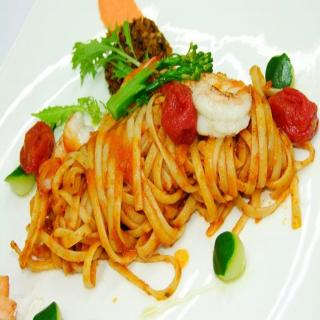Pasta: (9, 36, 310, 286)
